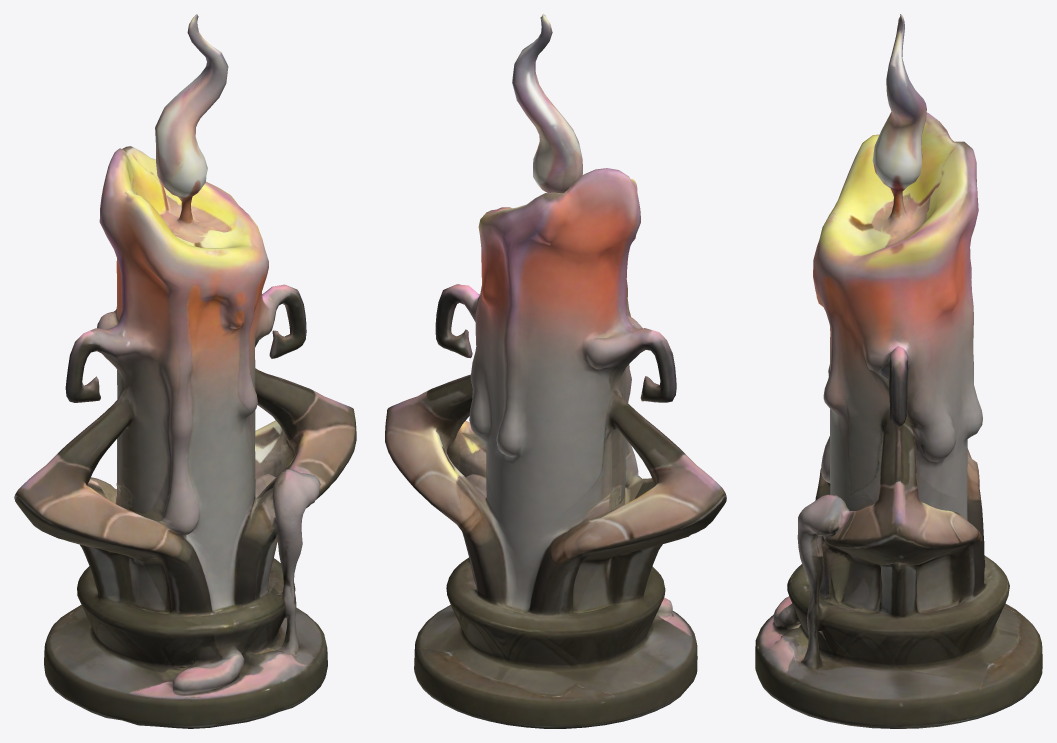
File: Meshy_AI_Radiant_Candle_0327215737_texture.glb
3 renders of one model, left to right at view 1: azimuth 30°, elevation 25°; view 2: azimuth 150°, elevation 25°; view 3: azimuth 270°, elevation 25°, orthographic.
Bounding box in the file's own units: 1.08 × 1.99 × 0.7819.
Materials: 1 (1 with a texture image).
